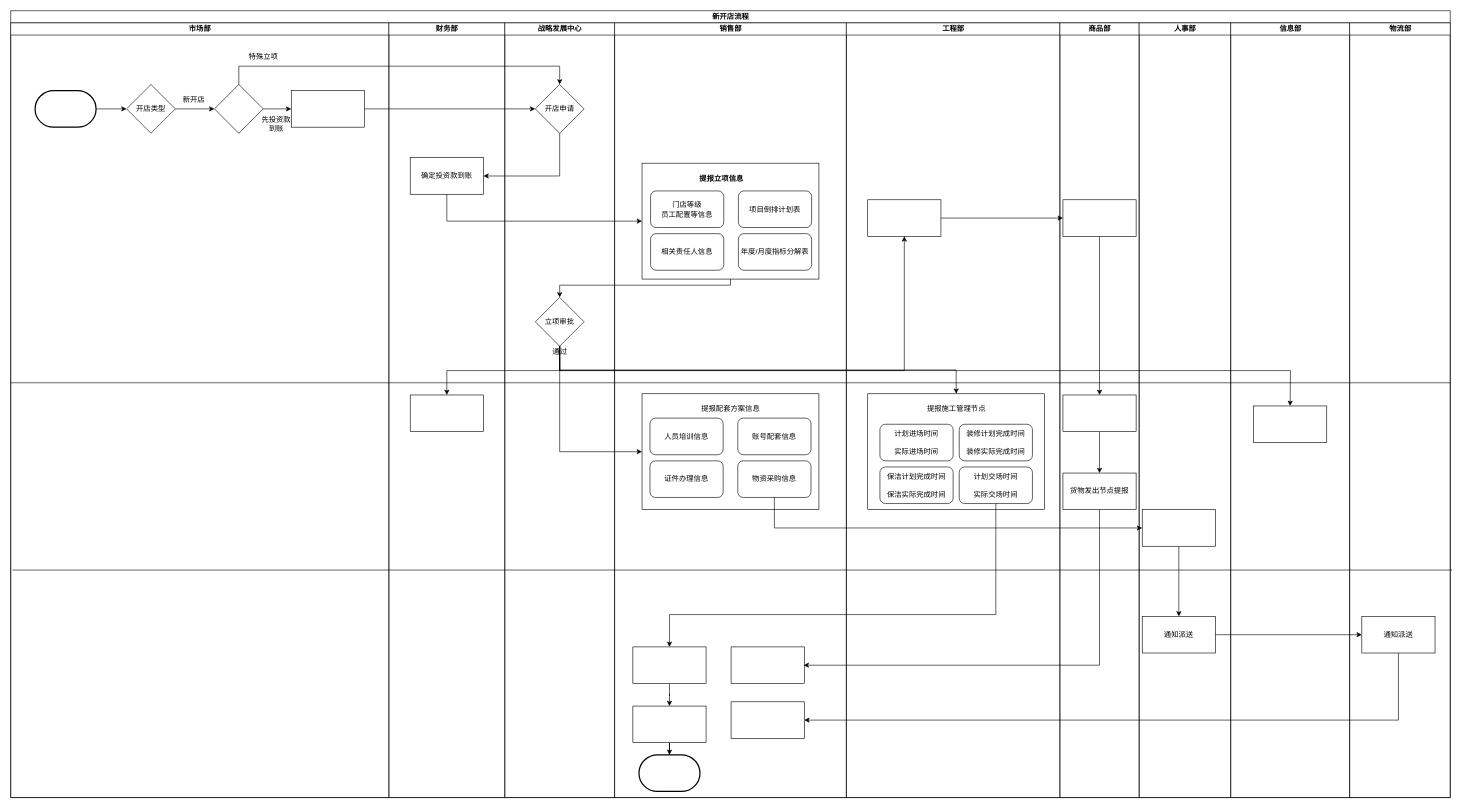
This 1463x808 diagram has some shape labels left out. The centre of each missing label's shape, as x and y in pixels:
"交场验收" goes at (x=669, y=665).
"商品区域划分" goes at (x=1099, y=217).
"商品采购计划" goes at (x=1099, y=413).
"备用金打款" goes at (x=446, y=413).
"开业评价" goes at (x=669, y=724).
"开始" goes at (x=65, y=108).
"物资验收" goes at (x=767, y=719).
"确认采购" goes at (x=1178, y=527).
"结束" goes at (x=669, y=773).
"设计方案提报" goes at (x=904, y=217).
"货物验收" goes at (x=767, y=665).
"配置账号/ E3胜券支付码" goes at (x=1290, y=424).
"门店/投资/协议 信息提交" goes at (x=327, y=108).
"项目节奏" goes at (x=238, y=108).
